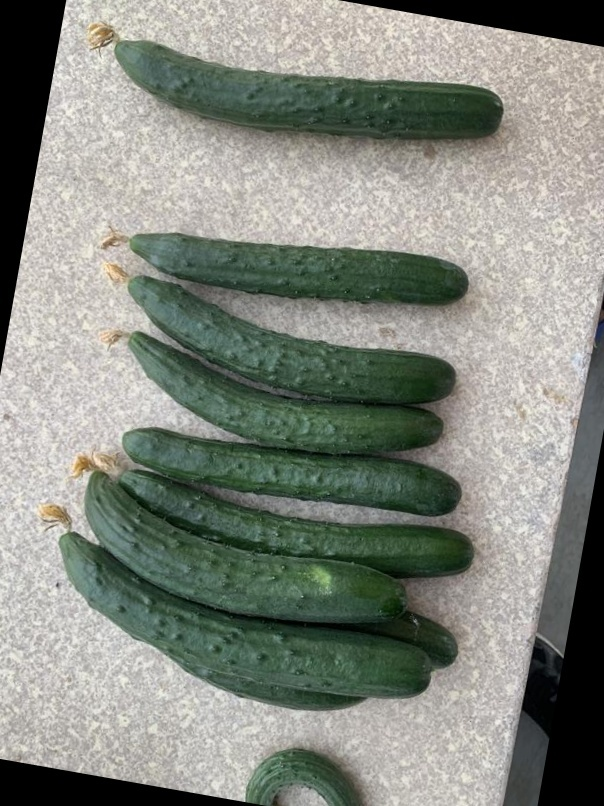mature: (54, 531, 426, 697), (82, 479, 411, 622), (121, 270, 455, 405), (110, 31, 503, 141), (120, 329, 449, 454), (116, 419, 468, 516), (120, 223, 471, 306)
